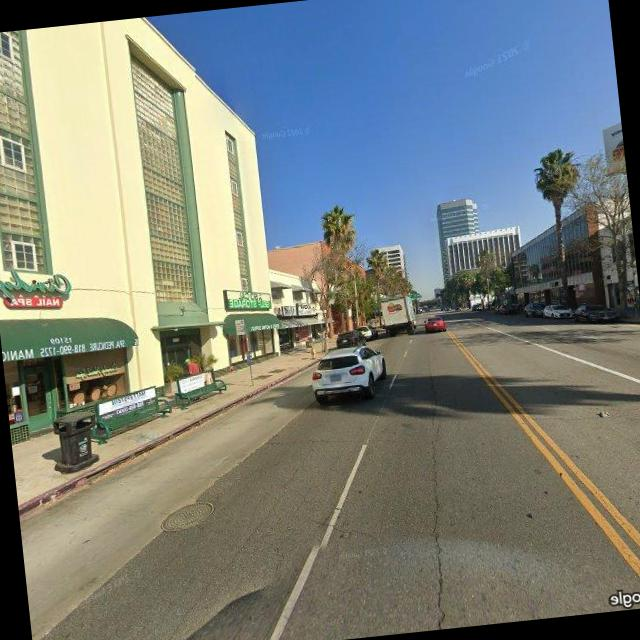crack: (410, 412, 464, 628)
